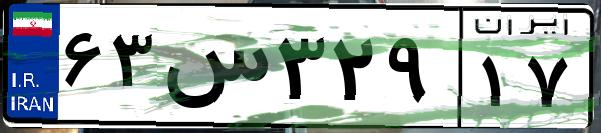1: (475, 38, 525, 113)
2: (330, 28, 385, 110)
3: (270, 28, 330, 110), (110, 28, 158, 98)
6: (57, 26, 110, 100)
7: (525, 38, 570, 115)
9: (385, 28, 445, 110)
س: (158, 20, 270, 120)
